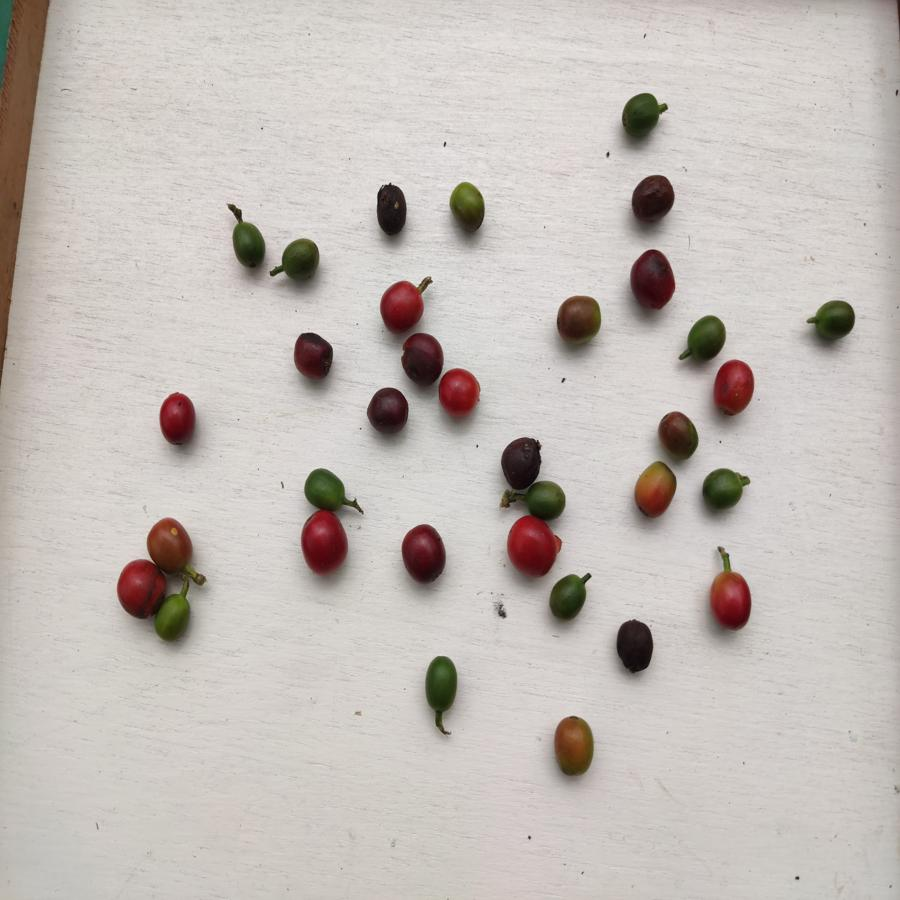Inmaduro: (419, 653, 462, 711), (447, 178, 491, 233), (615, 91, 665, 139), (155, 594, 201, 645), (548, 573, 590, 625), (304, 466, 350, 513), (685, 312, 727, 363), (228, 220, 269, 270), (279, 235, 321, 283), (701, 468, 746, 511), (815, 298, 856, 341), (527, 480, 567, 519)
Maduro: (296, 514, 353, 577), (709, 570, 759, 635), (507, 517, 561, 575), (115, 561, 163, 620), (377, 280, 427, 332), (713, 359, 755, 419), (439, 369, 484, 419), (159, 391, 197, 446)
Pinton: (143, 516, 199, 578), (633, 458, 679, 521), (553, 714, 597, 779), (553, 293, 606, 345), (654, 411, 701, 463)
Sobremaduro: (626, 249, 679, 313), (397, 522, 447, 583), (629, 173, 680, 225), (291, 330, 341, 383), (614, 617, 656, 674), (399, 333, 444, 384), (497, 436, 543, 485), (366, 387, 411, 436), (373, 180, 410, 237)
